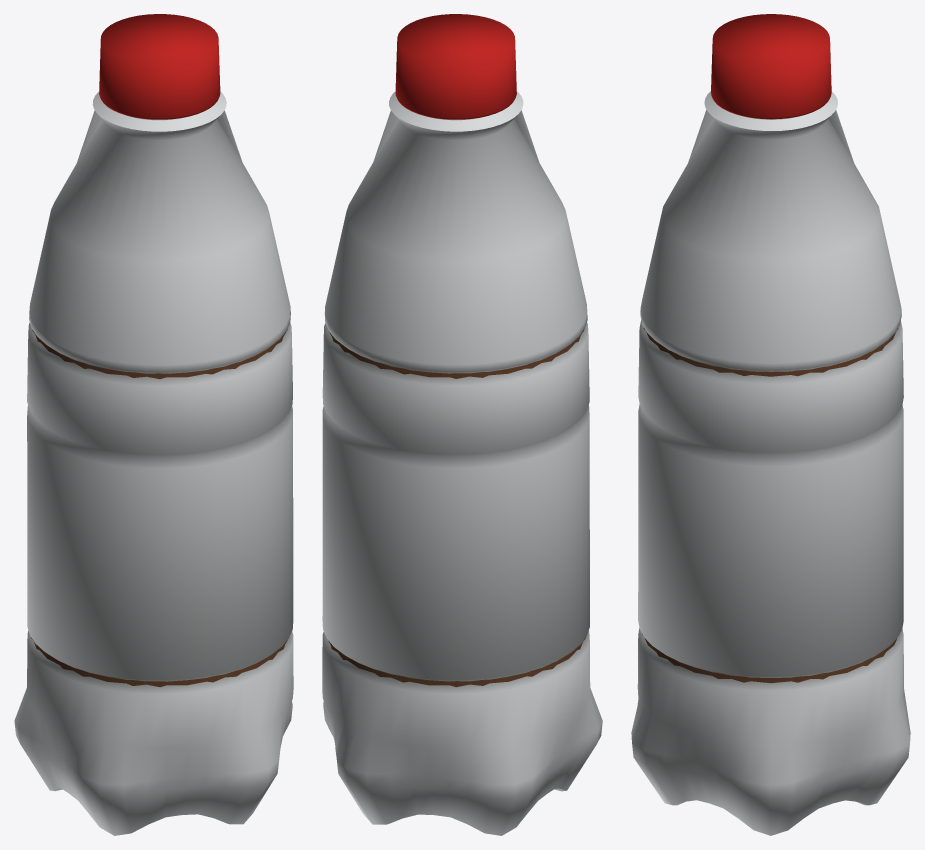
File: bottle_pet500_lod1.glb
The picture shows the model from 3 angles, left to right: view 1: azimuth 30°, elevation 25°; view 2: azimuth 150°, elevation 25°; view 3: azimuth 270°, elevation 25°; orthographic projection.
Parts seen in each view (by area): view 1: Glass, Cap, Liquid; view 2: Glass, Cap, Liquid; view 3: Glass, Cap, Liquid.
Boxes of the visible parts, bbox=[...] form: Glass: bbox=[14, 91, 293, 835]; Cap: bbox=[99, 14, 220, 119]; Liquid: bbox=[31, 329, 287, 687]; Glass: bbox=[322, 91, 602, 835]; Cap: bbox=[395, 14, 516, 119]; Liquid: bbox=[328, 330, 585, 687]; Glass: bbox=[631, 91, 910, 835]; Cap: bbox=[711, 14, 831, 119]; Liquid: bbox=[642, 328, 899, 683].
Bounding box in the file's own units: 0.0695 × 0.2065 × 0.0695.
